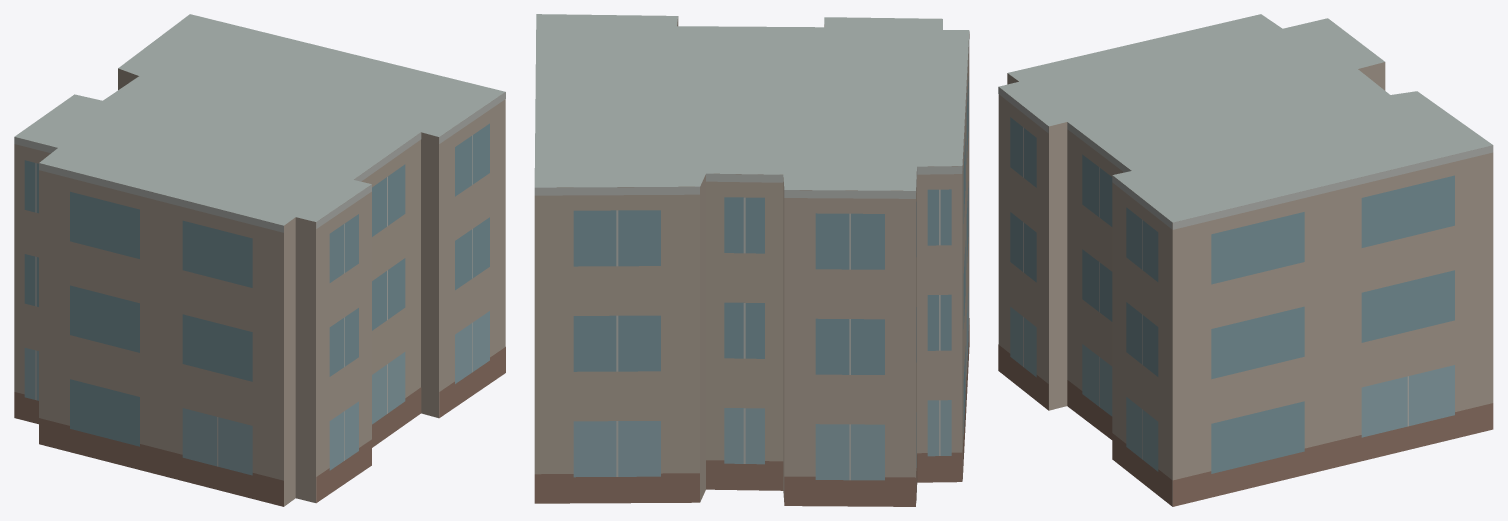
Rendered from survey-upis-33027677.glb.
The picture shows the model from 3 angles, left to right: view 1: azimuth 30°, elevation 25°; view 2: azimuth 150°, elevation 25°; view 3: azimuth 270°, elevation 25°; orthographic projection. The views are drawn at different scales.
Visible parts, largest first — view 1: survey-upis-33027677.tmp; view 2: survey-upis-33027677.tmp; view 3: survey-upis-33027677.tmp.
Boxes of the visible parts, bbox=[...] form: survey-upis-33027677.tmp: bbox=[14, 14, 505, 506]; survey-upis-33027677.tmp: bbox=[534, 14, 969, 506]; survey-upis-33027677.tmp: bbox=[998, 14, 1493, 506].
Size of the model in its own units: 15.04 by 9.55 by 15.08.
